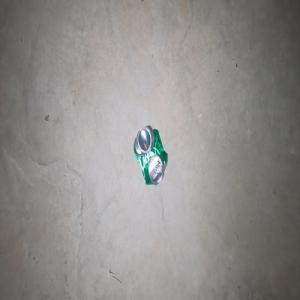SodaCan: (133, 124, 167, 184)
